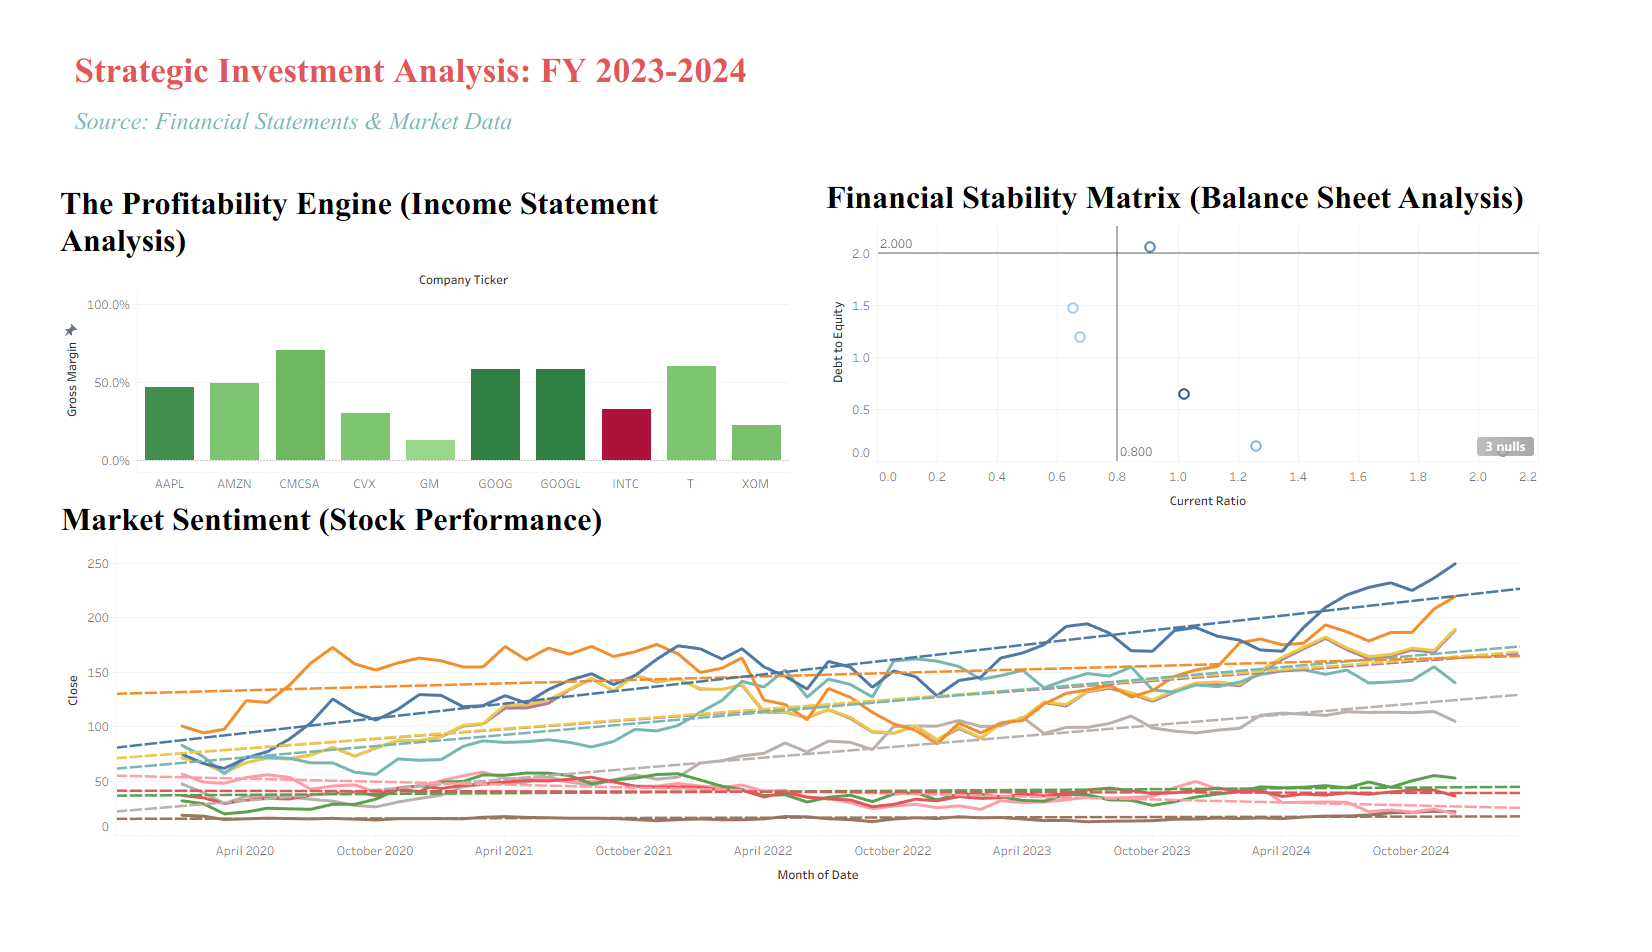

This screenshot's page, from the dashboard's own definition file:
{"tool":"tableau","page":{"name":"The Executive Dashboard","canvas":[1504,856],"ordinal":0},"visuals":[{"type":"text","box":[33,4,1420,92]},{"type":"worksheet","title":"Risk Assessment (Scatter Plot) Top 10","mark":"Automatic","rows":["Calculation_1963006496798838788"],"cols":["Calculation_1963006496797200386"],"box":[783,132,717,341]},{"type":"worksheet","title":"Profitability Landscape Top 10","mark":"Bar","rows":["Calculation_1963006496797052928"],"cols":["Company Ticker"],"box":[17,138,733,312]},{"type":"worksheet","title":"Market Performance (Dual Axis)","mark":"Automatic","rows":["Close"],"cols":["Date"],"box":[18,454,1463,393]}]}

Visuals, with their boxes in screenshot pixels (x1, y1, x2, y2), scaled from the page's 1504x856 canvas onto the 1652x952 screenshot:
text: rect(36, 4, 1596, 107)
"Risk Assessment (Scatter Plot) Top 10" worksheet: rect(860, 147, 1648, 526)
"Profitability Landscape Top 10" worksheet (Bar marks): rect(19, 153, 824, 500)
"Market Performance (Dual Axis)" worksheet: rect(20, 505, 1627, 942)
